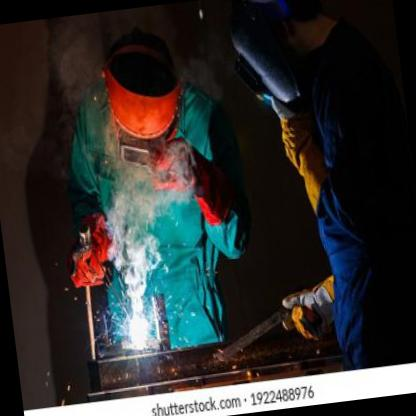Gloves: (144, 130, 235, 234), (270, 92, 334, 220), (276, 273, 342, 347), (62, 209, 121, 290)
